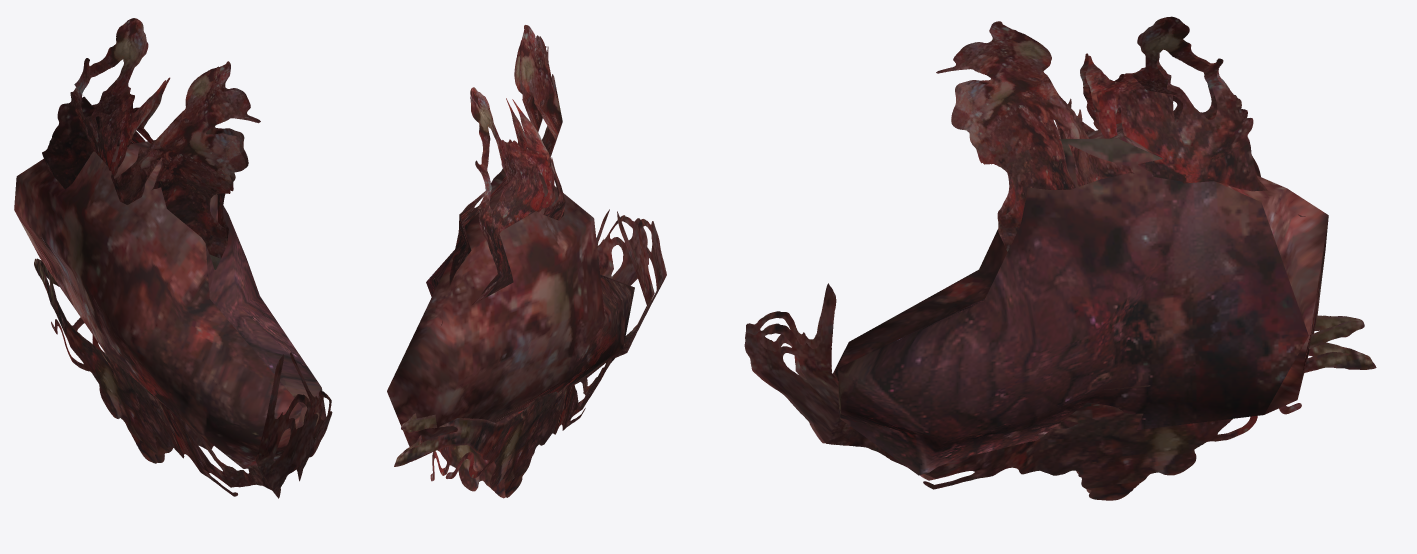
File: fx_char_gib_chunk_meat01_LOD0.obj
3 renders of one model, left to right at view 1: azimuth 30°, elevation 25°; view 2: azimuth 150°, elevation 25°; view 3: azimuth 270°, elevation 25°, orthographic. The views are drawn at different scales.
Visible parts, largest first — view 1: mtl_fx_char_gib_chunks; view 2: mtl_fx_char_gib_chunks; view 3: mtl_fx_char_gib_chunks.
Part boxes in pixels (box(x1,y1,x2,y2)): mtl_fx_char_gib_chunks: box(14, 18, 332, 498); mtl_fx_char_gib_chunks: box(387, 25, 666, 498); mtl_fx_char_gib_chunks: box(744, 16, 1376, 500).
Bounding box in the file's own units: 6.63 × 18.67 × 22.22.
